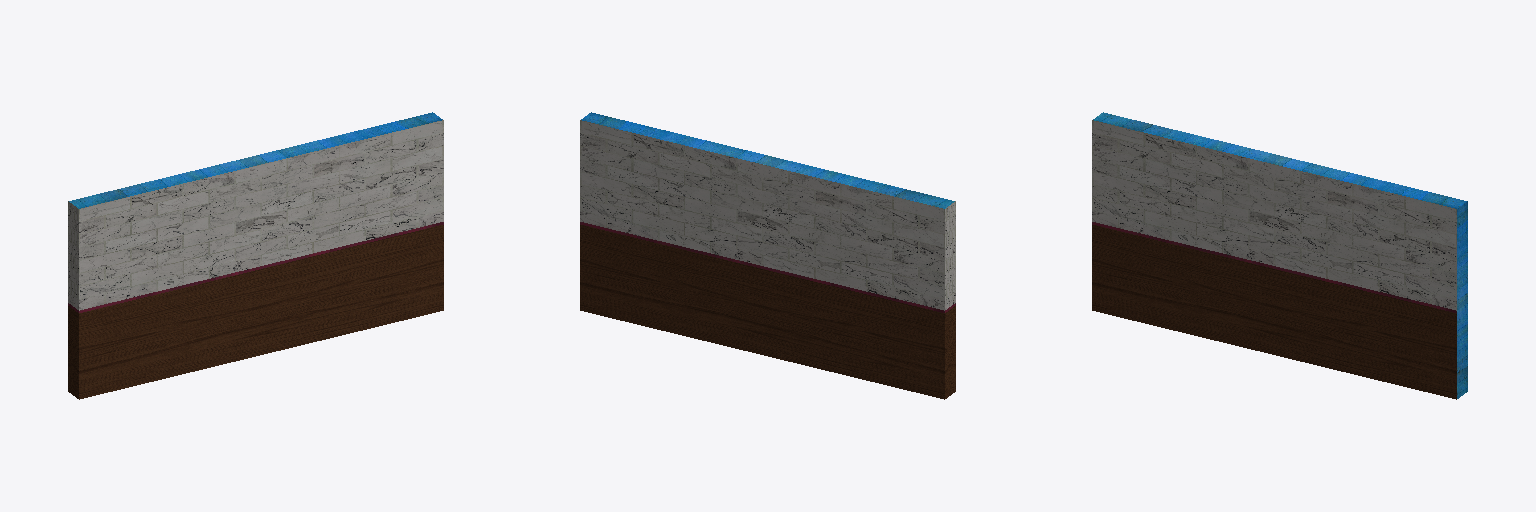
3 views of the same model, side by side, from view 1: azimuth 30°, elevation 25°; view 2: azimuth 150°, elevation 25°; view 3: azimuth 330°, elevation 25° (orthographic).
Parts seen in each view (by area): view 1: Pared2_text; view 2: Pared2_text; view 3: Pared2_text.
Boxes of the visible parts, box(x1,y1,x2,y2) form: Pared2_text: box(68, 112, 443, 399); Pared2_text: box(580, 112, 955, 399); Pared2_text: box(1092, 112, 1467, 399).
Bounding box in the file's own units: 500 × 250 × 25.
Materials: 2 (2 with a texture image).